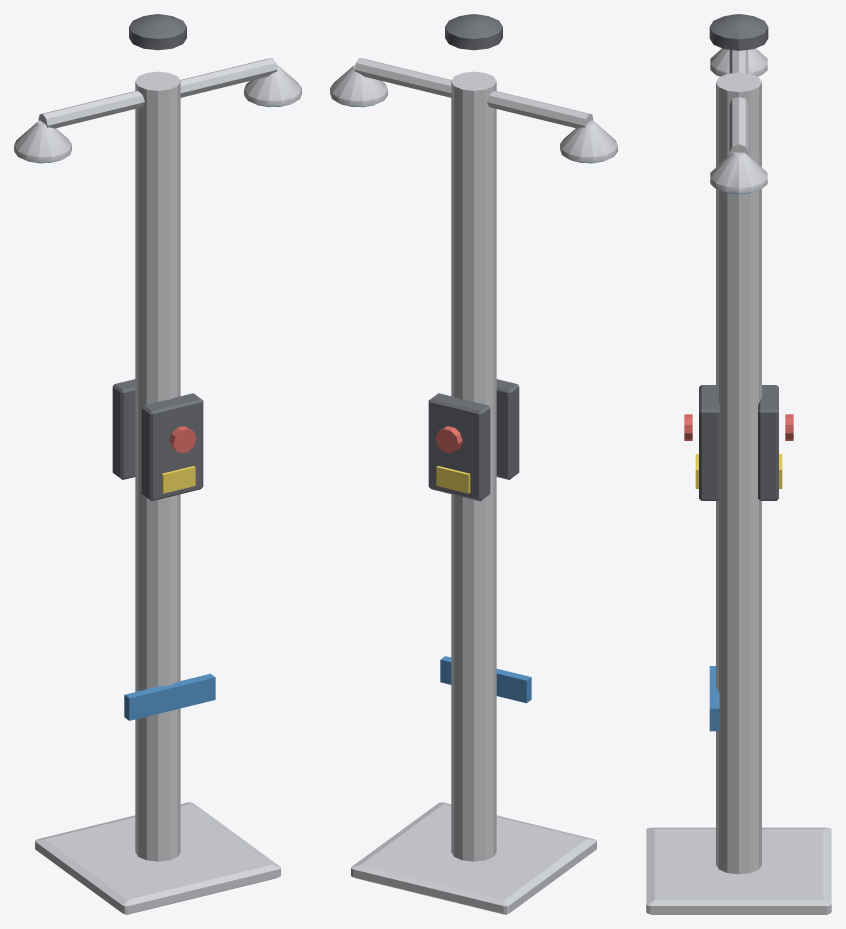
Rendered from public-swimming-baths-and-poolside-poolside-shower-pos-5d90b871__35269.glb.
3 renders of one model, left to right at view 1: azimuth 30°, elevation 25°; view 2: azimuth 150°, elevation 25°; view 3: azimuth 270°, elevation 25°, orthographic.
Visible parts, largest first — view 1: poolside-shower-post; view 2: poolside-shower-post; view 3: poolside-shower-post.
Boxes of the visible parts, x1=… form: poolside-shower-post: x1=14, y1=14, x2=301, y2=914; poolside-shower-post: x1=330, y1=14, x2=617, y2=914; poolside-shower-post: x1=646, y1=14, x2=831, y2=914.
Size of the model in its own units: 0.7799 by 2.25 by 0.4401.
